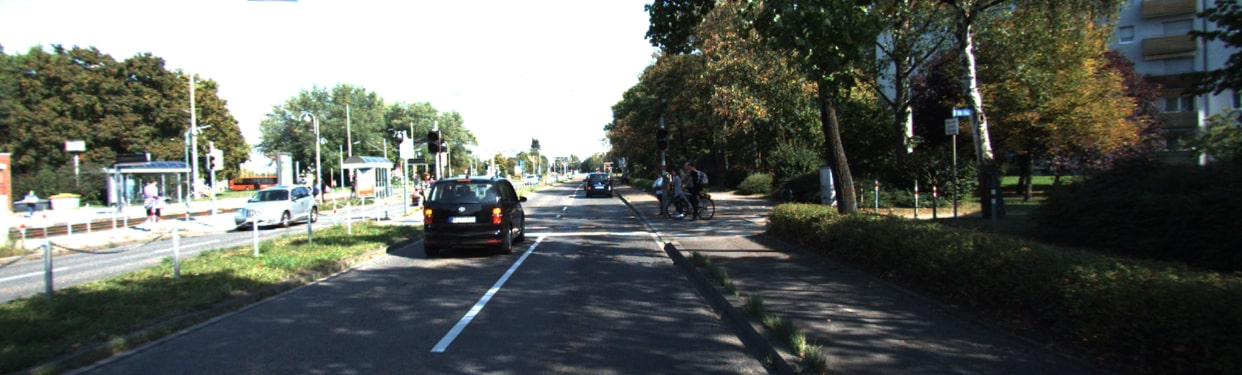Cyclist: (671, 166, 716, 225)
car: (422, 173, 526, 251), (232, 183, 315, 231), (579, 167, 614, 205)
person: (141, 172, 162, 237), (650, 166, 668, 227)
